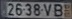2: (6, 2, 14, 16)
3: (24, 2, 32, 16)
6: (14, 2, 23, 16)
8: (32, 3, 41, 16)
B: (53, 3, 63, 17)
V: (42, 3, 52, 17)
